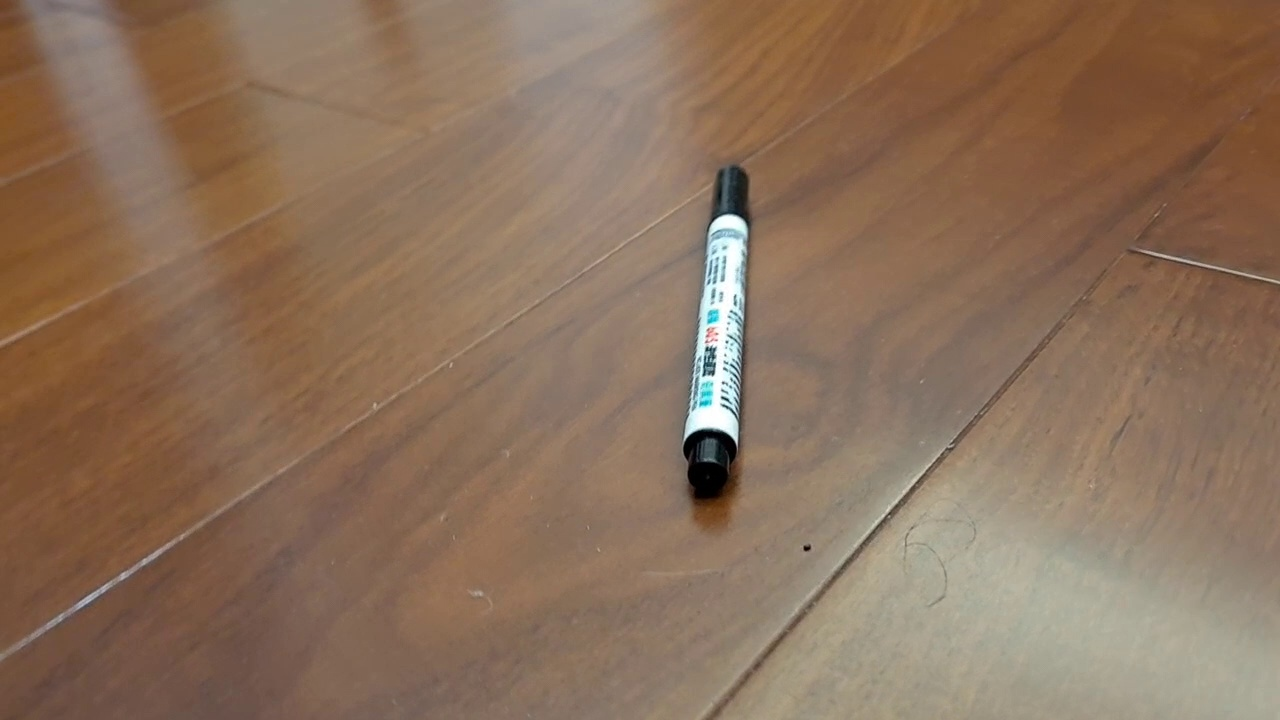pen: (681, 165, 752, 498)
